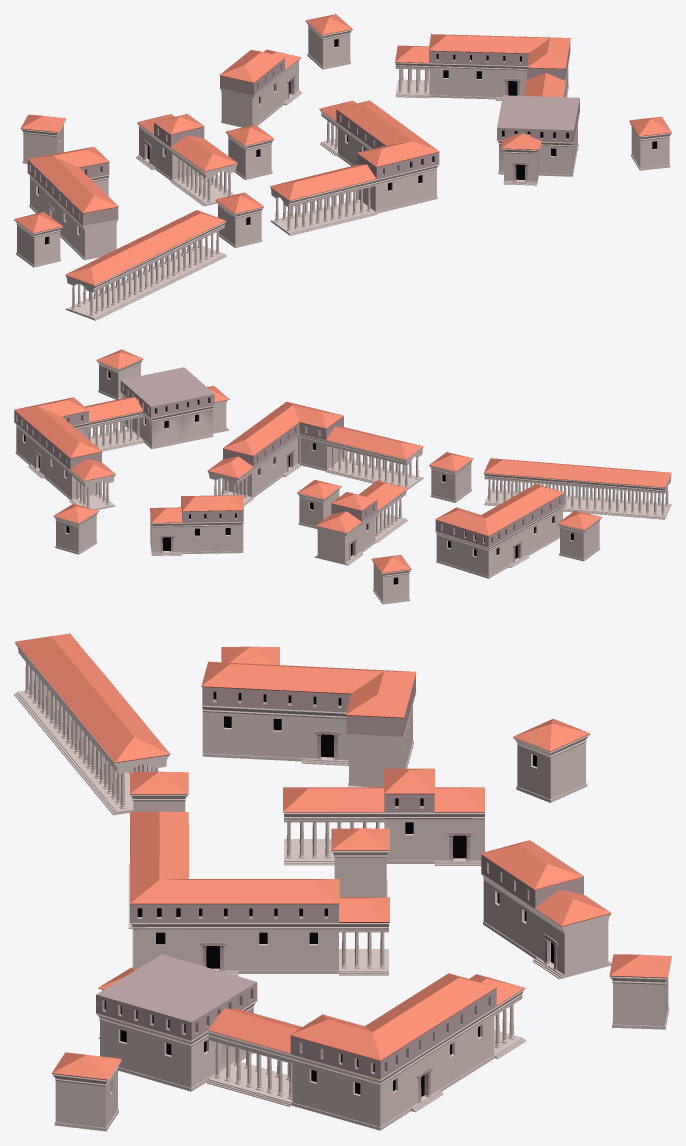
File: ville_001.fbx
3 views of the same model, one above another, from view 1: azimuth 30°, elevation 25°; view 2: azimuth 150°, elevation 25°; view 3: azimuth 270°, elevation 25° (orthographic). The views are drawn at different scales.
Visible parts, largest first — view 1: Cube.189, Cube.230, Cube.181, Cube.143, Cube.204, Cube.199, Cube.163, Cube.148, Cube.239, Cube.213, Cube.146, Cube.150; view 2: Cube.189, Cube.230, Cube.143, Cube.181, Cube.199, Cube.204, Cube.148, Cube.239, Cube.163, Cube.150, Cube.146, Cube.213; view 3: Cube.189, Cube.230, Cube.143, Cube.181, Cube.204, Cube.199, Cube.150, Cube.146, Cube.148, Cube.213, Cube.239, Cube.163.
Part boxes in pixels (left/top/right/bottom): Cube.189: left=395, top=34, right=580, bottom=185; Cube.230: left=270, top=100, right=439, bottom=235; Cube.181: left=65, top=210, right=226, bottom=320; Cube.143: left=27, top=147, right=118, bottom=260; Cube.204: left=135, top=114, right=237, bottom=206; Cube.199: left=219, top=49, right=302, bottom=127; Cube.163: left=14, top=212, right=62, bottom=267; Cube.148: left=305, top=14, right=352, bottom=69; Cube.239: left=215, top=192, right=263, bottom=248; Cube.213: left=225, top=124, right=274, bottom=180; Cube.146: left=629, top=116, right=671, bottom=170; Cube.150: left=20, top=114, right=66, bottom=163; Cube.189: left=14, top=367, right=229, bottom=510; Cube.230: left=207, top=401, right=423, bottom=506; Cube.143: left=435, top=484, right=564, bottom=578; Cube.181: left=484, top=458, right=671, bottom=519; Cube.199: left=149, top=495, right=243, bottom=555; Cube.204: left=314, top=480, right=407, bottom=565; Cube.148: left=53, top=503, right=98, bottom=554; Cube.239: left=429, top=452, right=473, bottom=502; Cube.163: left=557, top=510, right=601, bottom=561; Cube.150: left=371, top=555, right=411, bottom=604; Cube.146: left=96, top=349, right=143, bottom=399; Cube.213: left=297, top=480, right=341, bottom=528; Cube.189: left=96, top=954, right=525, bottom=1130; Cube.230: left=128, top=811, right=389, bottom=976; Cube.143: left=201, top=661, right=416, bottom=786; Cube.181: left=14, top=633, right=170, bottom=815; Cube.204: left=283, top=768, right=484, bottom=865; Cube.199: left=480, top=840, right=611, bottom=979; Cube.150: left=513, top=718, right=589, bottom=802; Cube.146: left=52, top=1052, right=121, bottom=1131; Cube.148: left=609, top=954, right=671, bottom=1029; Cube.213: left=331, top=828, right=389, bottom=897; Cube.239: left=130, top=771, right=188, bottom=811; Cube.163: left=221, top=646, right=279, bottom=664.
Bounding box in the file's own units: 1525 × 132 × 950.
